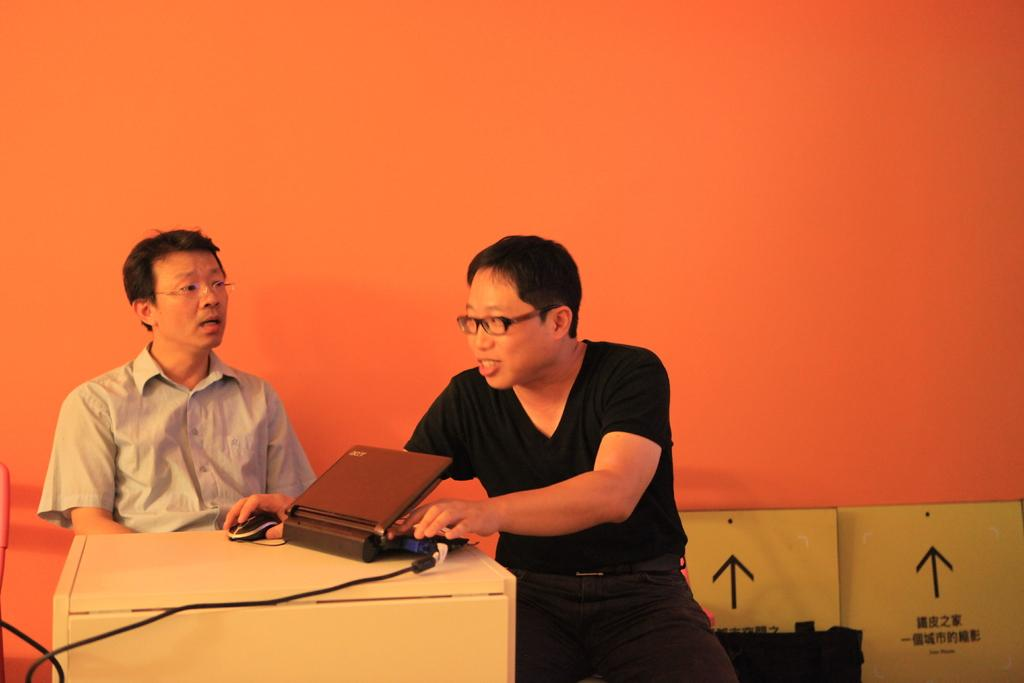Laptop: (280, 441, 468, 561)
